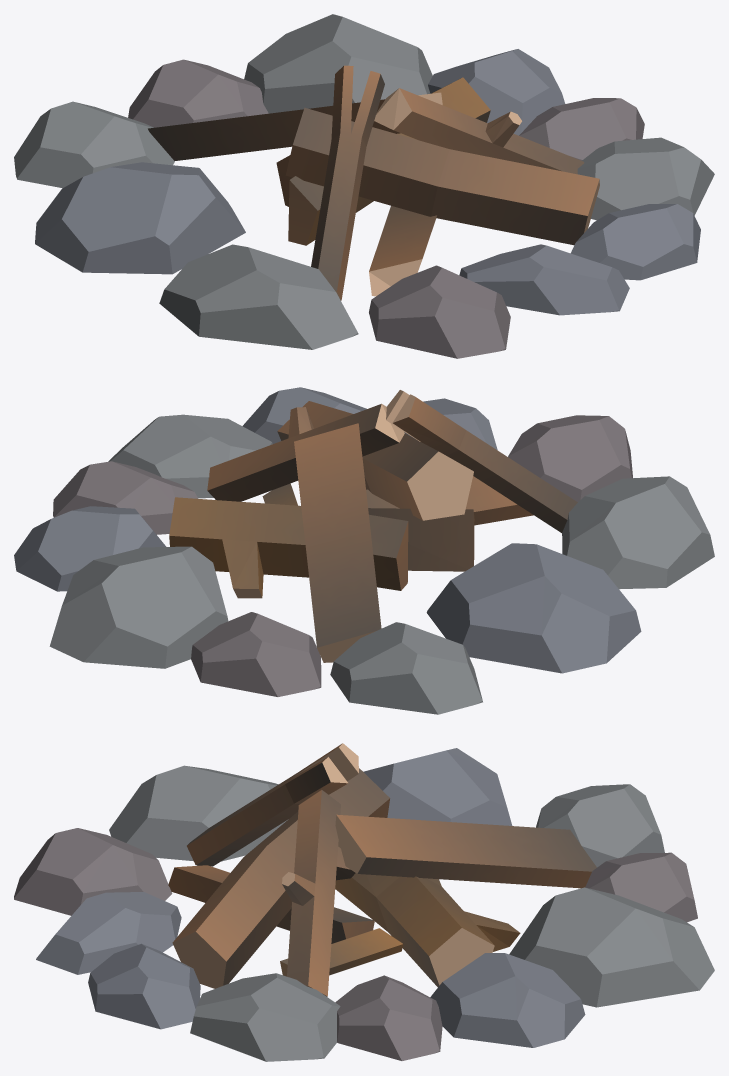
Rendered from Fireplace_Burn_m_01.fbx.
3 views of the same model, one above another, from view 1: azimuth 30°, elevation 25°; view 2: azimuth 150°, elevation 25°; view 3: azimuth 270°, elevation 25° (orthographic).
Visible parts, largest first — view 1: Fireplace_Burn_m_01; view 2: Fireplace_Burn_m_01; view 3: Fireplace_Burn_m_01.
Boxes of the visible parts, left/top/right/bottom form: Fireplace_Burn_m_01: left=14, top=14, right=714, bottom=358; Fireplace_Burn_m_01: left=14, top=387, right=714, bottom=714; Fireplace_Burn_m_01: left=14, top=743, right=714, bottom=1061.
Bounding box in the file's own units: 124 × 34.77 × 132.
